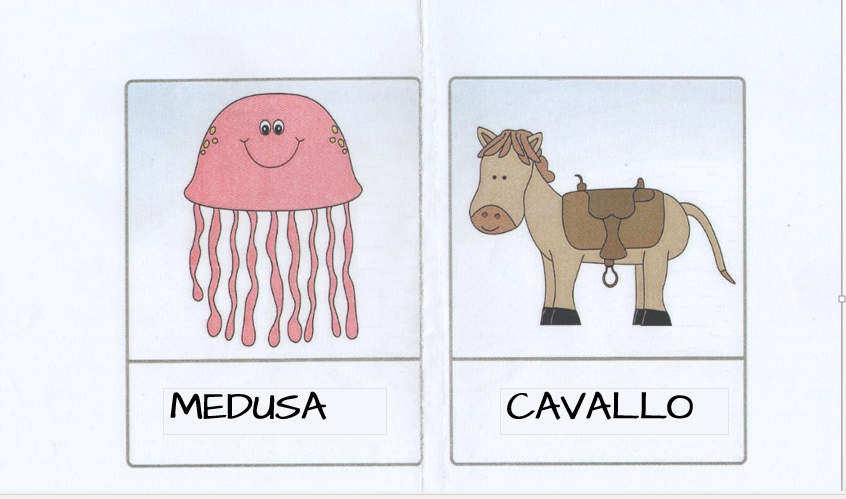cavallo: (454, 91, 745, 449)
medusa: (142, 82, 408, 452)
